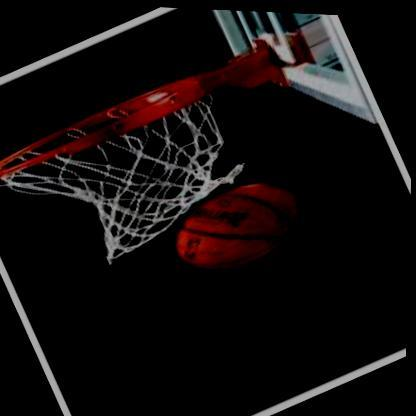basketball: (163, 159, 316, 289)
rim: (0, 63, 245, 286)
